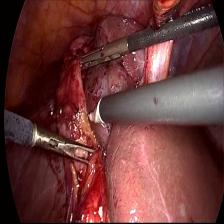Grasper: (34, 124, 103, 169), (73, 36, 128, 76)
Hook: (85, 92, 107, 130)
